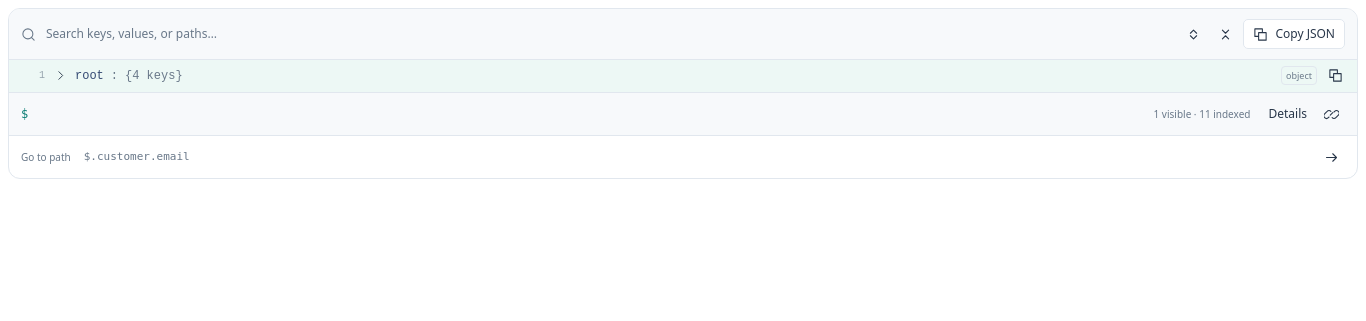
Test case: JsonGlance › finds collapsed values, highlights results and excludes unrelated branches
Type "recife" into the field named "Search JSON". click: (606, 34)
box: x1=44 y1=19 x2=1167 y2=49
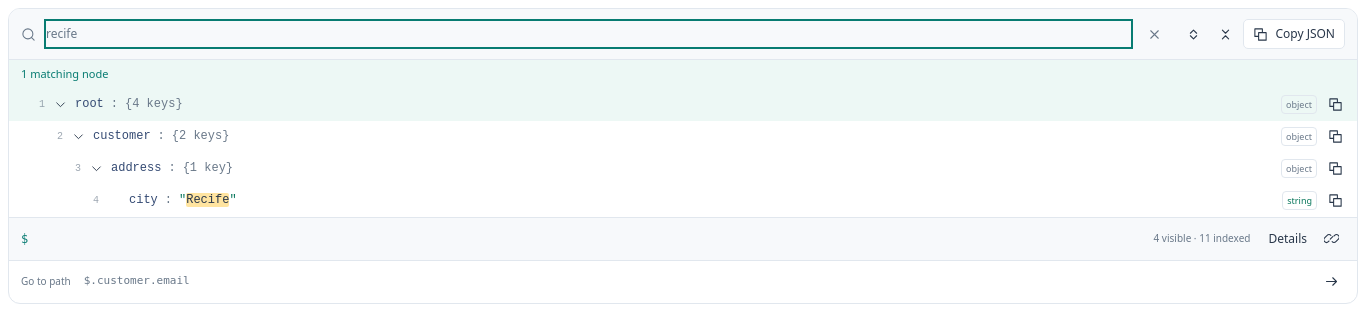
Now the text "Recife" is shown, box x1=186 y1=193 x2=229 y2=207
Clear the field named "Search JSON". click: (588, 34)
box: x1=44 y1=19 x2=1133 y2=49
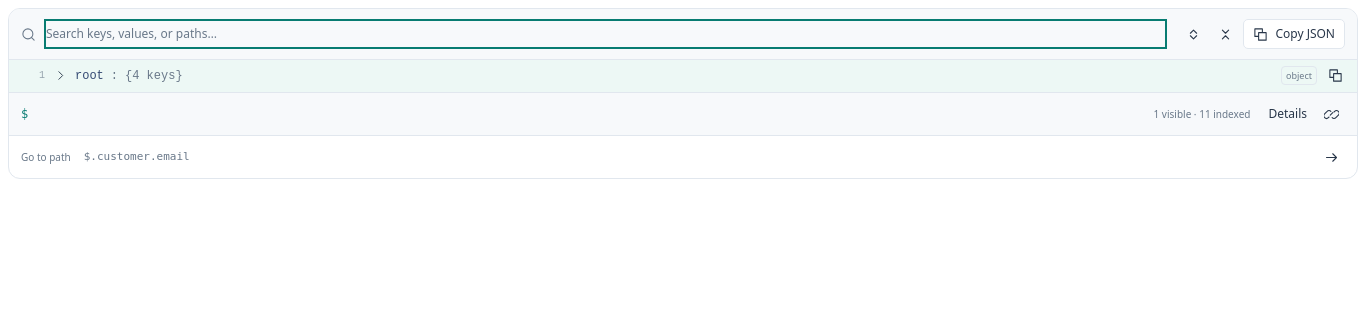
Type "not-found" into the field named "Search JSON". click: (606, 34)
box: x1=44 y1=19 x2=1167 y2=49
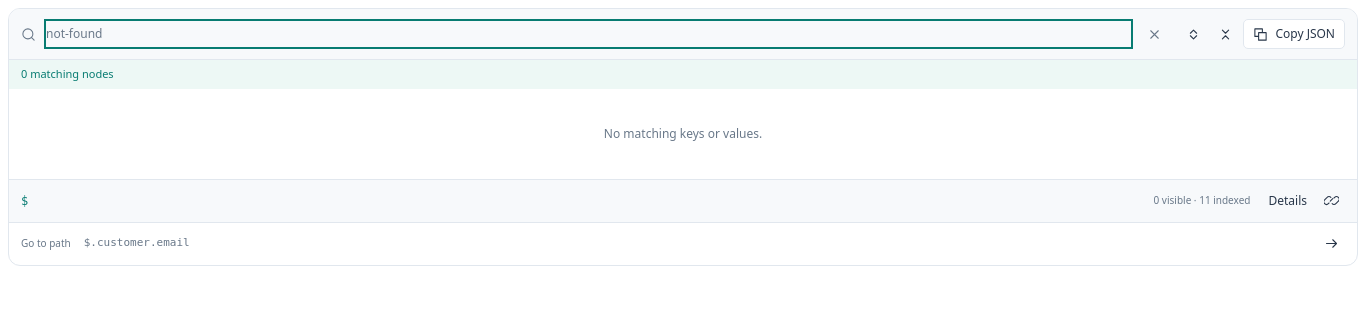
Now the text "No matching keys or values." is shown, box x1=604 y1=124 x2=762 y2=142
